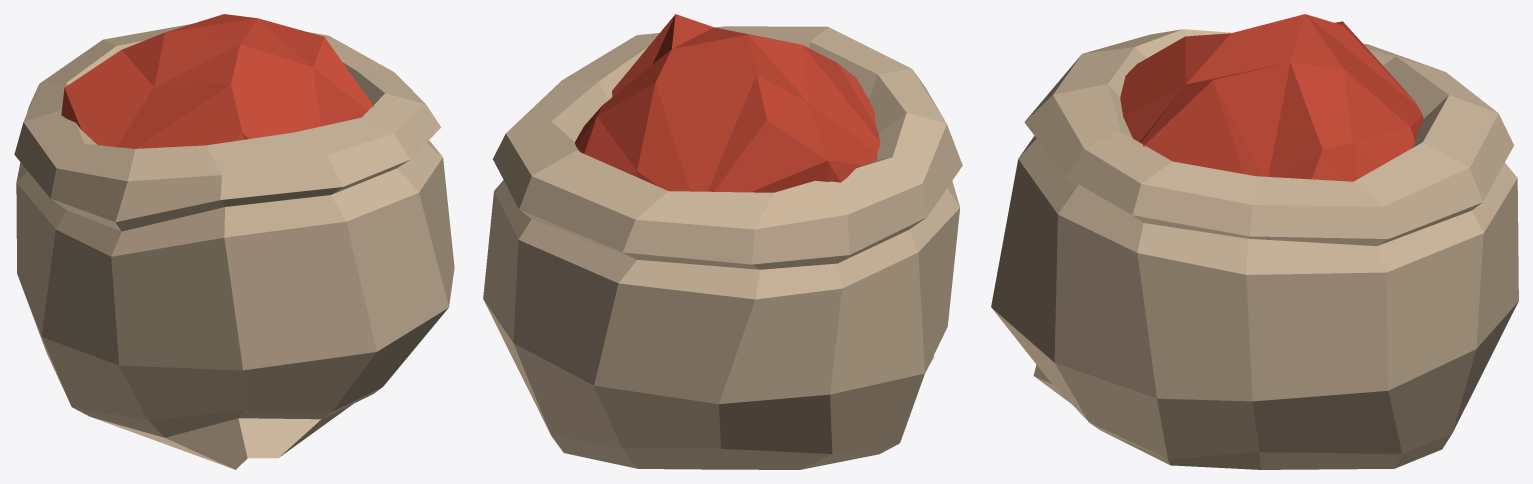
The model's file is SM_Prop_Sack_01.glb.
3 renders of one model, left to right at view 1: azimuth 30°, elevation 25°; view 2: azimuth 150°, elevation 25°; view 3: azimuth 270°, elevation 25°, orthographic. The views are drawn at different scales.
Visible parts, largest first — view 1: SM_Prop_Sack_01; view 2: SM_Prop_Sack_01; view 3: SM_Prop_Sack_01.
Boxes of the visible parts, x1,y1,x2,y2 form: SM_Prop_Sack_01: (14,14,454,469); SM_Prop_Sack_01: (483,14,962,469); SM_Prop_Sack_01: (991,14,1518,469).
Size of the model in its own units: 0.699 by 0.6234 by 0.7747.
1 material, 1 textured.
